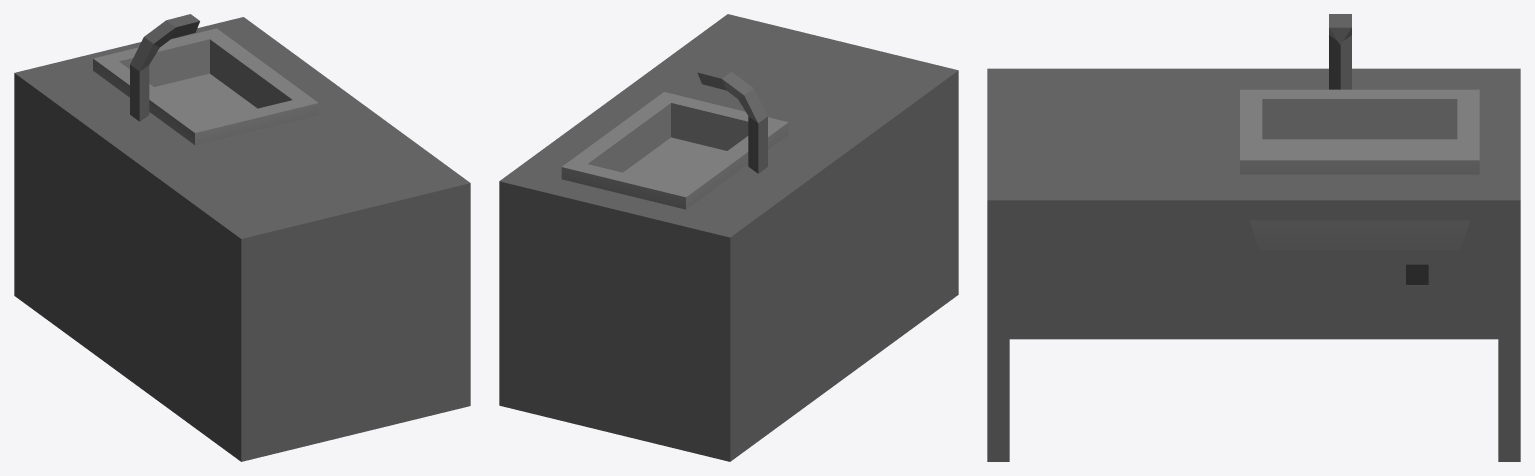
File: TableSink.fbx
The picture shows the model from 3 angles, left to right: view 1: azimuth 30°, elevation 25°; view 2: azimuth 150°, elevation 25°; view 3: azimuth 270°, elevation 25°; orthographic projection. The views are drawn at different scales.
Visible parts, largest first — view 1: TableSink; view 2: TableSink; view 3: TableSink.
Part boxes in pixels (x1,y1,x2,y2): TableSink: [14, 14, 470, 461]; TableSink: [499, 14, 958, 461]; TableSink: [987, 14, 1520, 461].
Bounding box in the file's own units: 70 × 90.07 × 120.
1 material, 1 textured.
